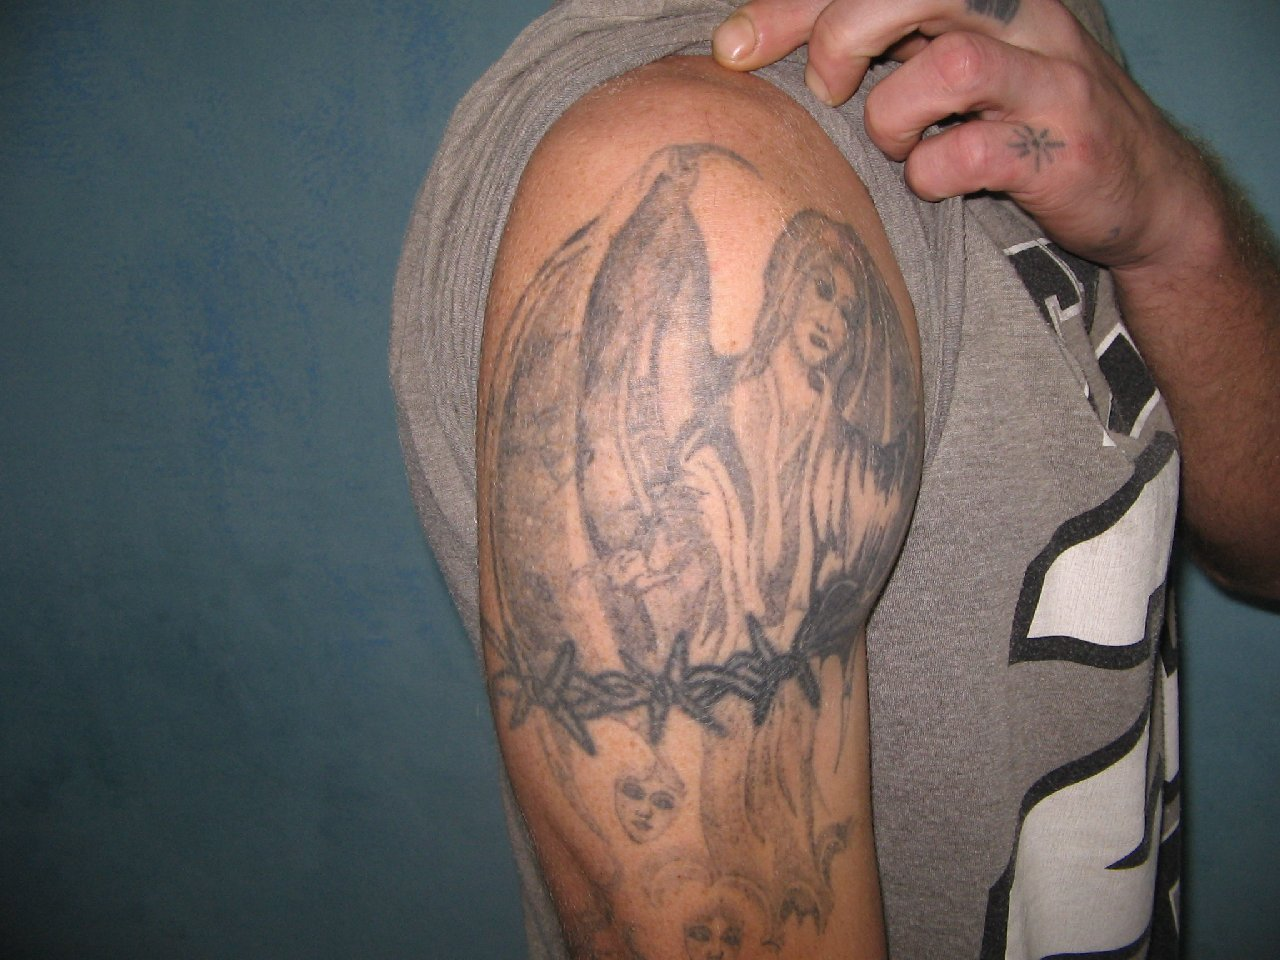tatu1_angel: (487, 147, 924, 711)
